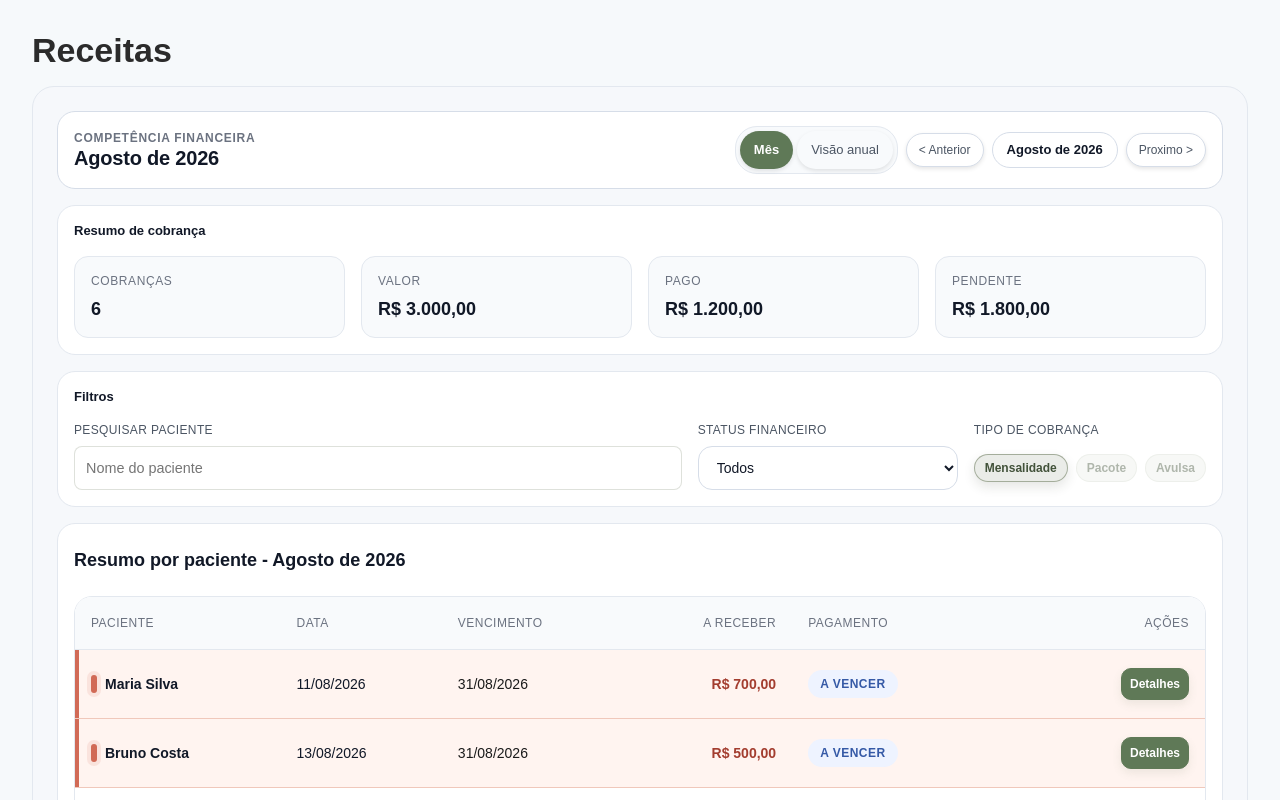
Scenario: ciclos continuam distintos e sem cobrança não entra na seleção
This screenshot has width=1280, height=800.
Click the button "Detalhes" in the row of "Maria Silva": x=1155, y=684 [1121, 668, 1189, 700]
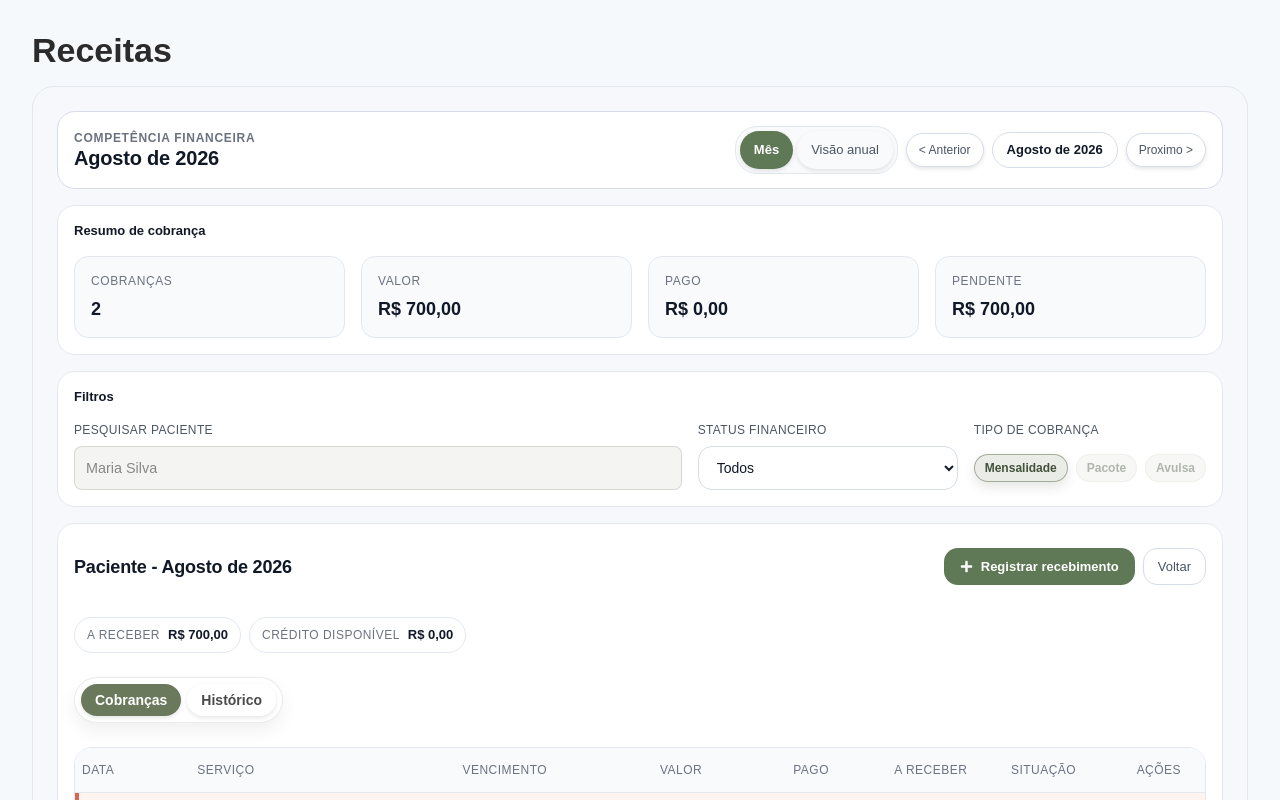
Check: the button "Registrar recebimento" is enabled
Check: the text "Crédito disponível" is shown, box [262, 627, 400, 643]
Click the button "Registrar recebimento": x=1039, y=566 [944, 548, 1135, 585]
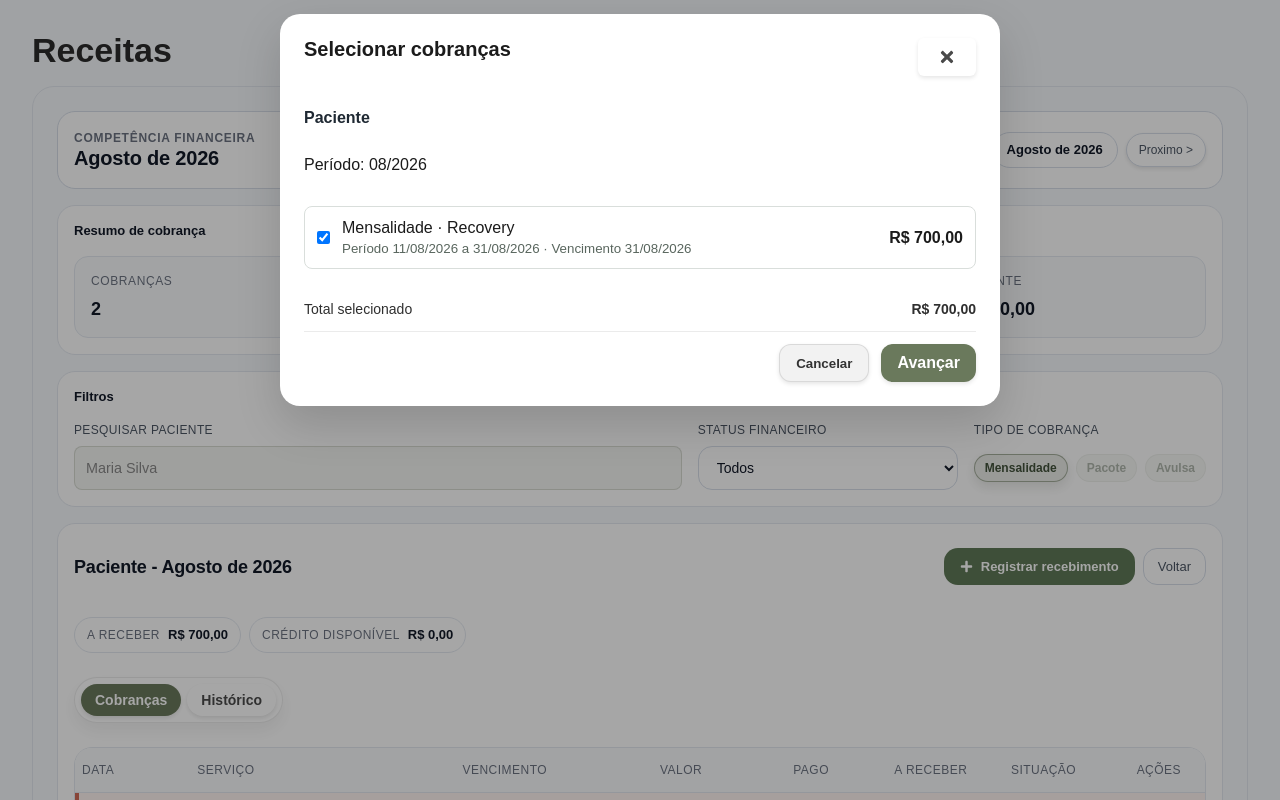
Check: the number of checkboxes is 1, box [317, 231, 330, 244]
Check: the checkbox is checked, box [317, 231, 330, 244]
